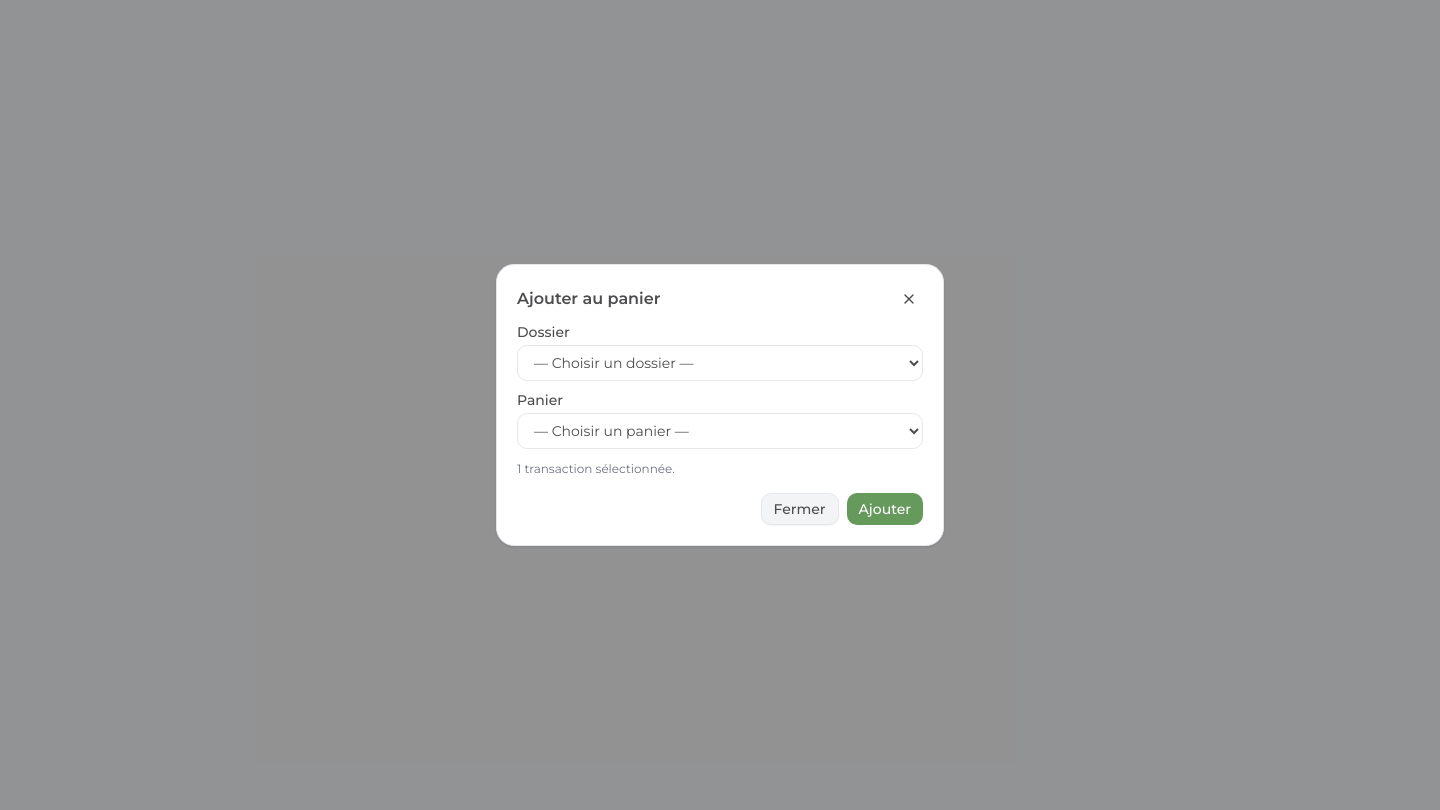
Scenario: AddToPanierDialog › affiche une erreur si aucun panier n'est choisi
The width and height of the screenshot is (1440, 810).
Click the button "Ajouter": (885, 509) [846, 493, 923, 525]
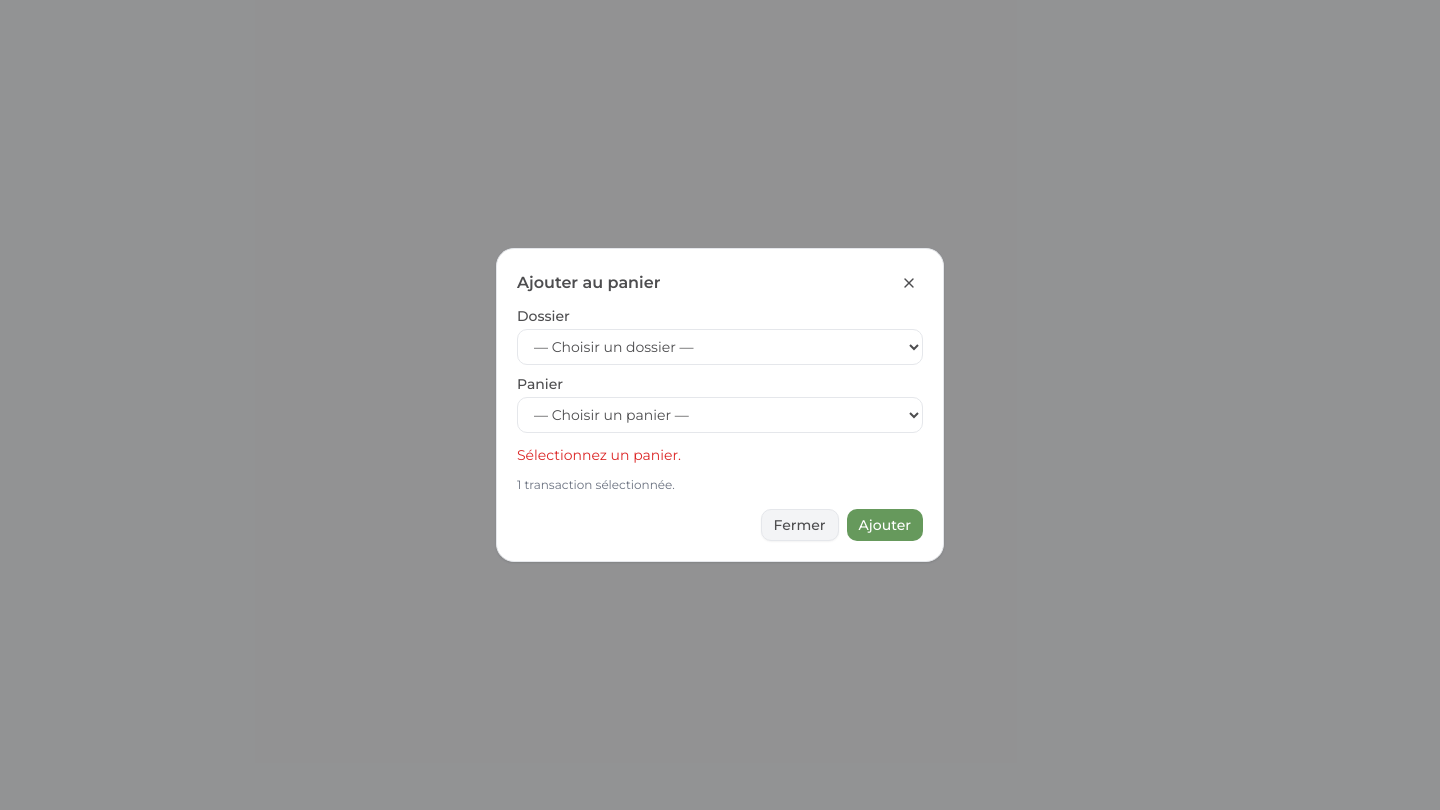
Result: the text "Sélectionnez un panier." is shown at [517, 446, 681, 464]
